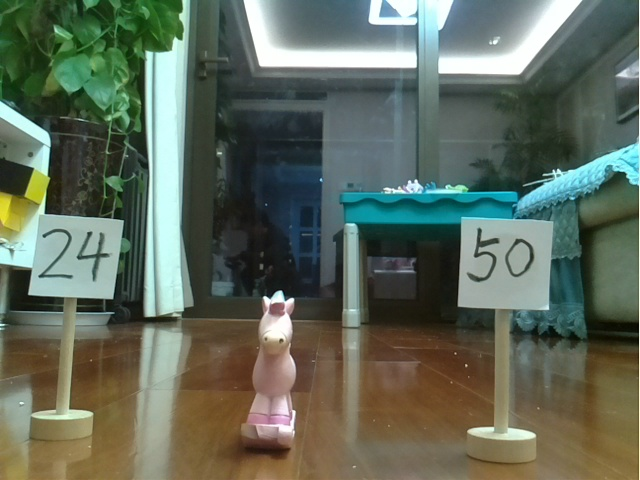Horse: (239, 280, 307, 449)
Speed Limit 24: (32, 209, 124, 439)
Speed Limit 50: (450, 210, 556, 464)
